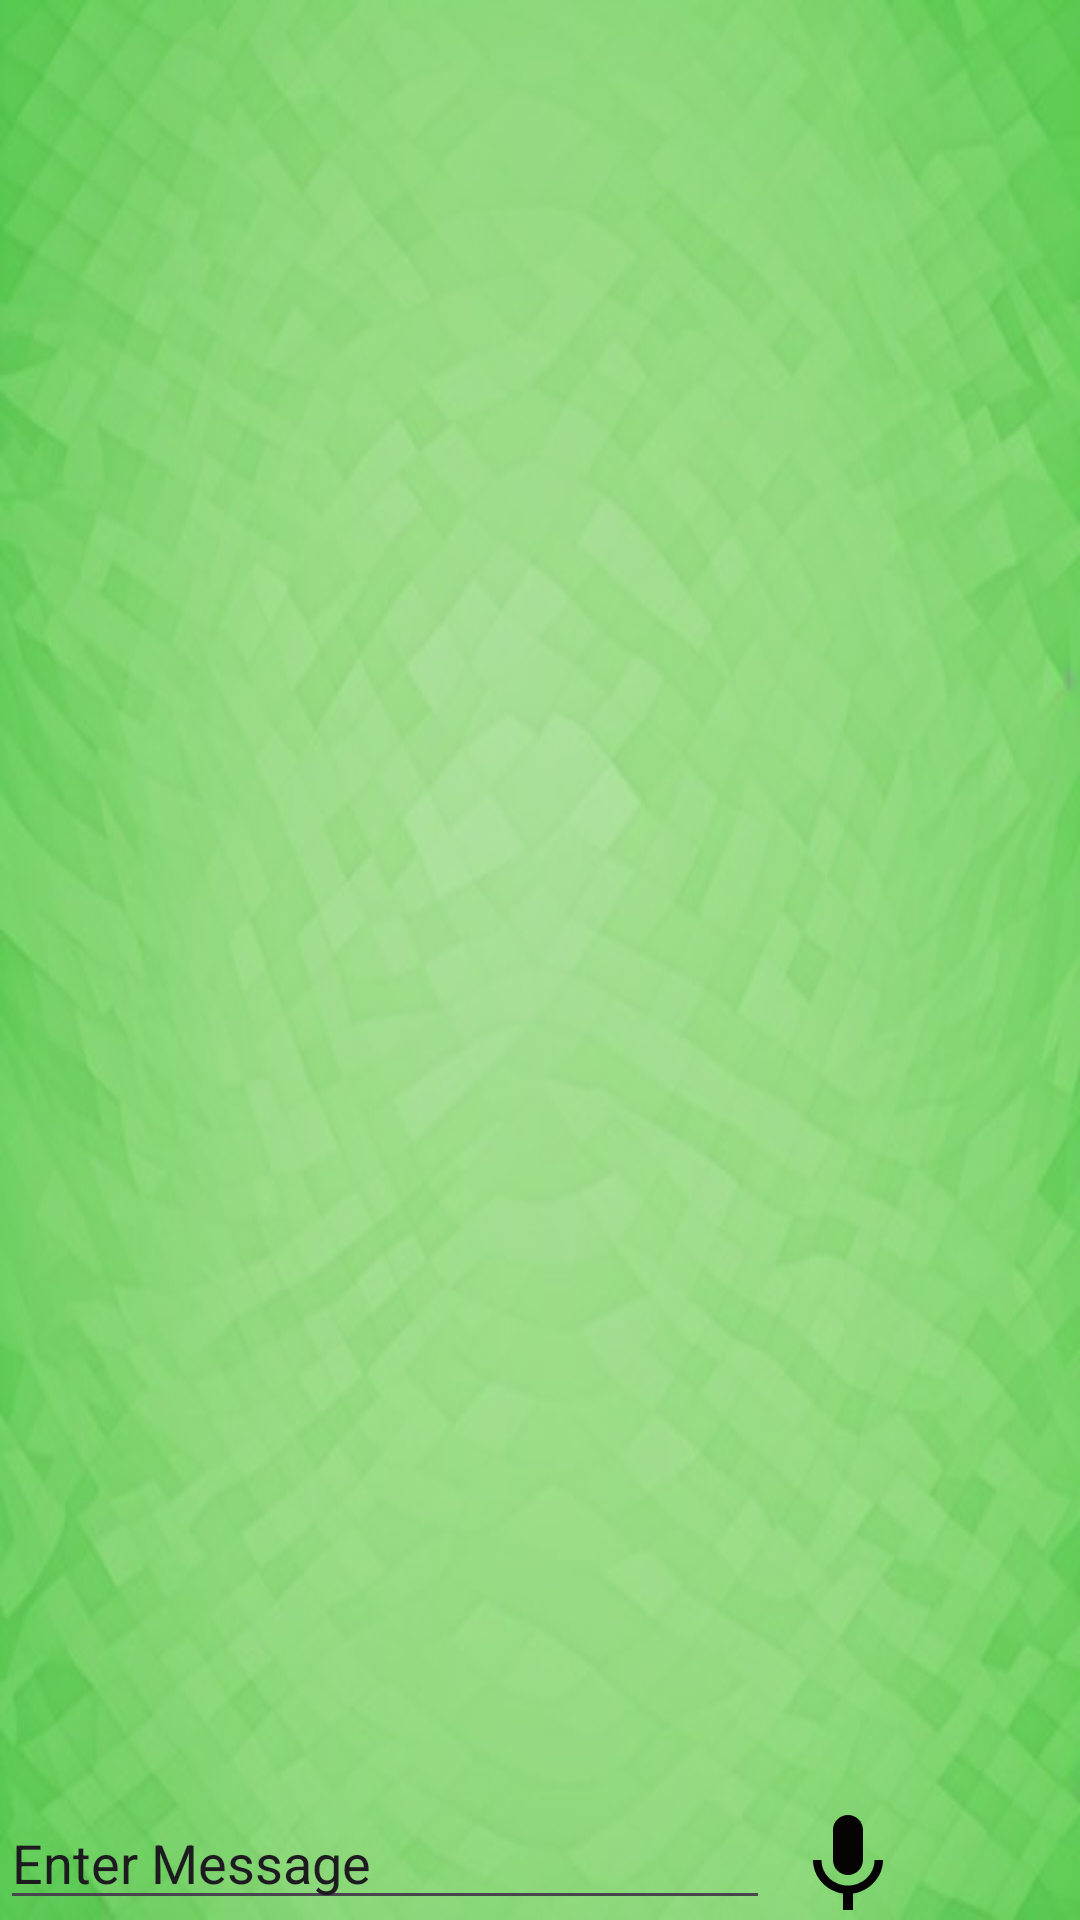

Where icons sit on this 1080*1920 app screen, as [x1=x1, y1=y1, x2=x2, y2=y2]:
voice: [x1=813, y1=1815, x2=925, y2=1920]
